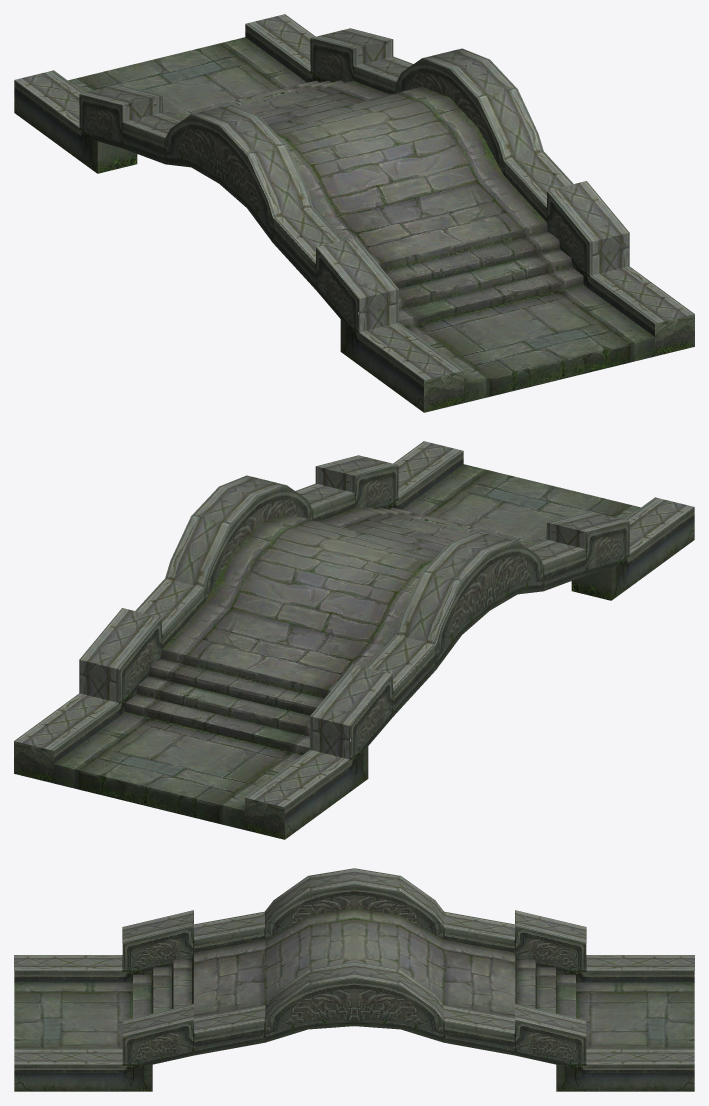
Rendered from environment_building_shiqiao_001_a.FBX.
The picture shows the model from 3 angles, top to bottom: view 1: azimuth 30°, elevation 25°; view 2: azimuth 150°, elevation 25°; view 3: azimuth 270°, elevation 25°; orthographic projection. The views are drawn at different scales.
Parts seen in each view (by area): view 1: environment_building_shiqiao_001_d0, environment_building_shiqiao_001_c0, environment_building_shiqiao_001_e0, environment_building_shiqiao_001_a0, environment_building_shiqiao_001_b0; view 2: environment_building_shiqiao_001_d0, environment_building_shiqiao_001_c0, environment_building_shiqiao_001_e0, environment_building_shiqiao_001_a0, environment_building_shiqiao_001_b0; view 3: environment_building_shiqiao_001_e0, environment_building_shiqiao_001_d0, environment_building_shiqiao_001_c0, environment_building_shiqiao_001_a0, environment_building_shiqiao_001_b0.
Boxes of the visible parts, x1=… form: environment_building_shiqiao_001_d0: x1=14, y1=14, x2=694, y2=380; environment_building_shiqiao_001_c0: x1=241, y1=80, x2=546, y2=263; environment_building_shiqiao_001_e0: x1=14, y1=24, x2=694, y2=412; environment_building_shiqiao_001_a0: x1=68, y1=37, x2=654, y2=402; environment_building_shiqiao_001_b0: x1=171, y1=80, x2=583, y2=327; environment_building_shiqiao_001_d0: x1=14, y1=441, x2=694, y2=807; environment_building_shiqiao_001_c0: x1=162, y1=507, x2=467, y2=690; environment_building_shiqiao_001_e0: x1=14, y1=451, x2=694, y2=839; environment_building_shiqiao_001_a0: x1=53, y1=464, x2=640, y2=829; environment_building_shiqiao_001_b0: x1=125, y1=507, x2=537, y2=754; environment_building_shiqiao_001_e0: x1=14, y1=884, x2=694, y2=1091; environment_building_shiqiao_001_d0: x1=14, y1=868, x2=694, y2=1064; environment_building_shiqiao_001_c0: x1=194, y1=908, x2=514, y2=1017; environment_building_shiqiao_001_a0: x1=14, y1=982, x2=694, y2=1048; environment_building_shiqiao_001_b0: x1=133, y1=953, x2=575, y2=1017.
Bounding box in the file's own units: 76.66 × 37.12 × 201.
Materials: 5 (5 with a texture image).
